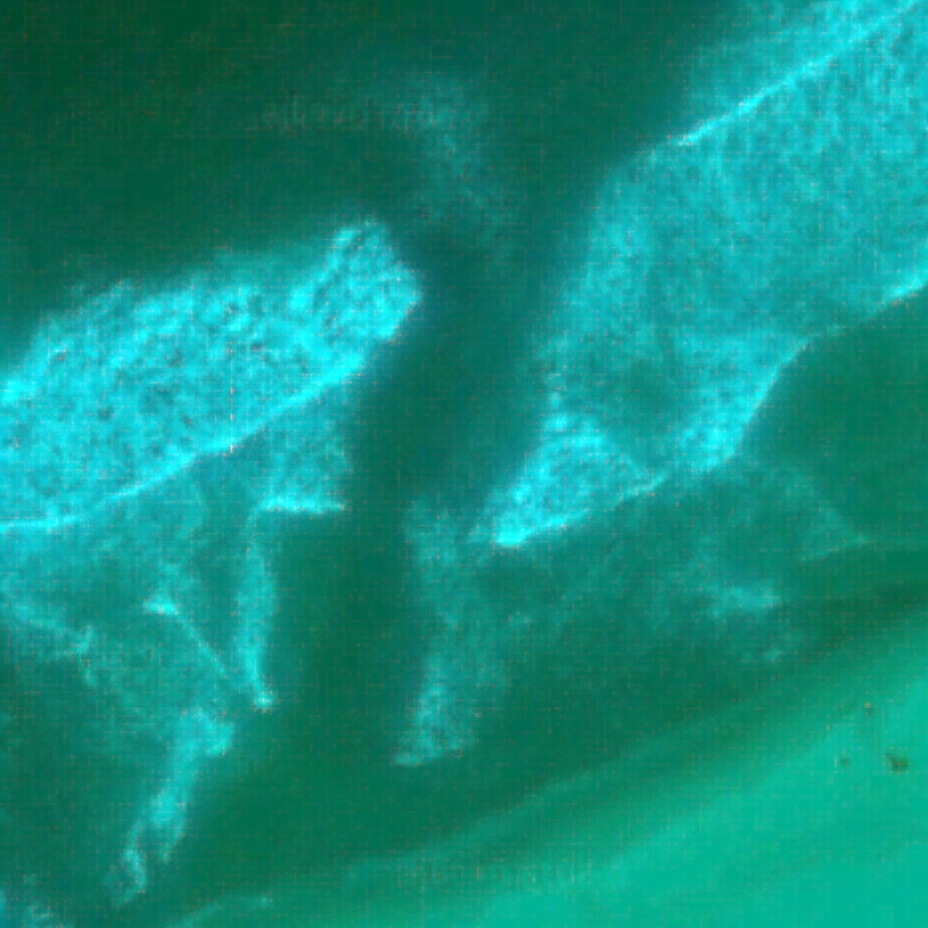rip_current: (213, 170, 632, 765)
